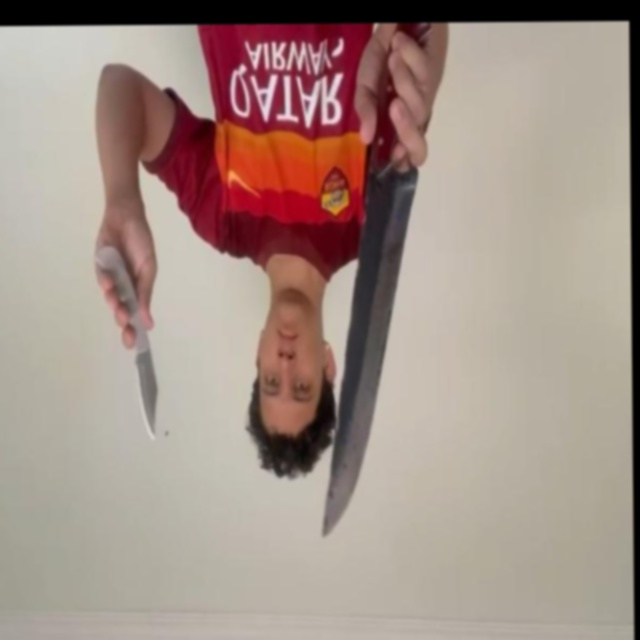Sharp-Object: (319, 165, 423, 539)
